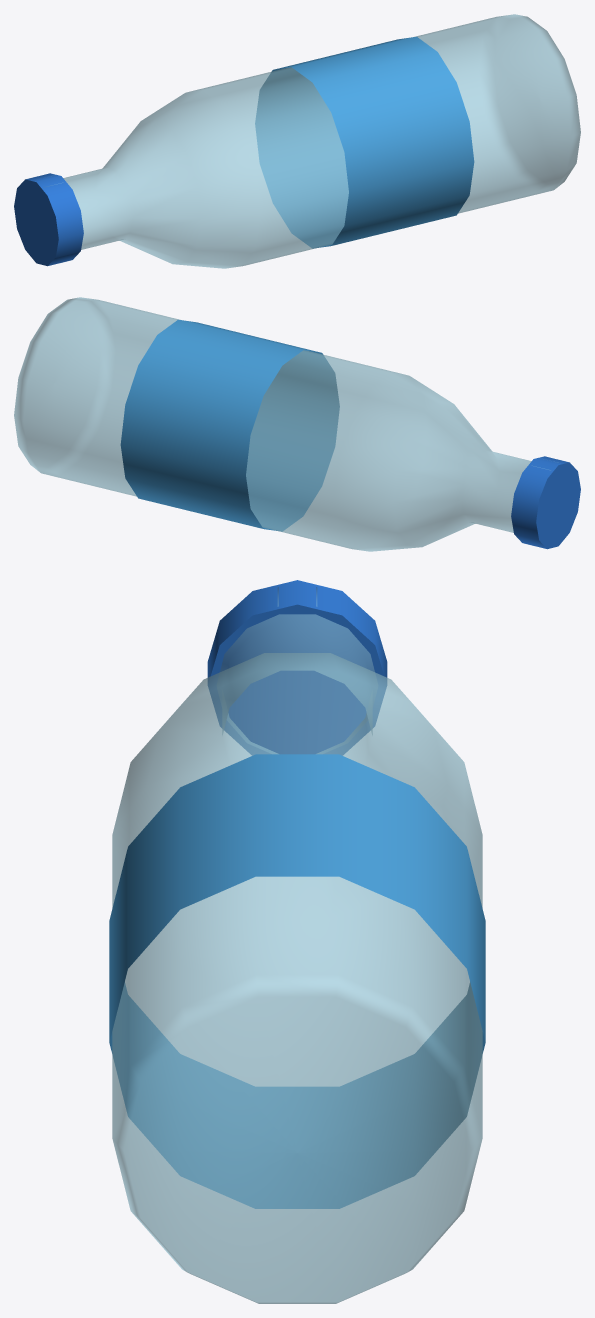
File: plastic_bottle.glb
The picture shows the model from 3 angles, top to bottom: view 1: azimuth 30°, elevation 25°; view 2: azimuth 150°, elevation 25°; view 3: azimuth 270°, elevation 25°; orthographic projection. The views are drawn at different scales.
Visible parts, largest first — view 1: group_0; view 2: group_0; view 3: group_0.
Part boxes in pixels (left/top/right/bottom): group_0: left=14, top=14, right=580, bottom=268; group_0: left=14, top=297, right=580, bottom=551; group_0: left=109, top=580, right=485, bottom=1303.
Bounding box in the file's own units: 20.1 × 6.34 × 6.5.
